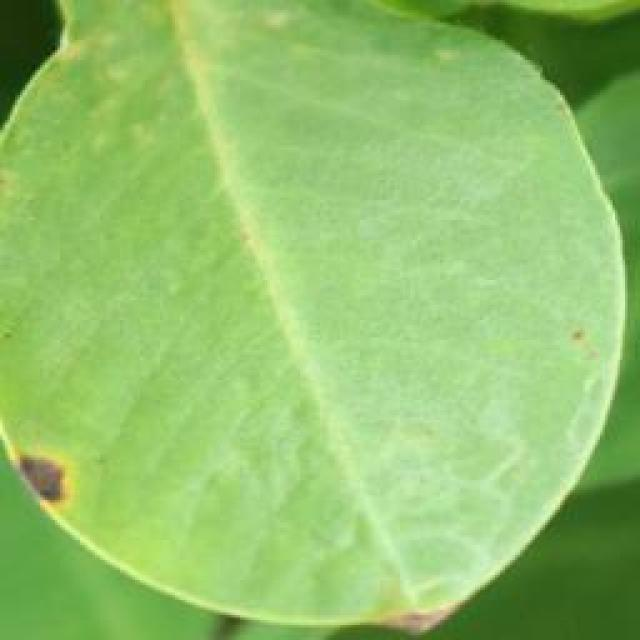Sigatoka: (2, 437, 122, 557), (381, 608, 464, 640), (561, 314, 598, 374)
